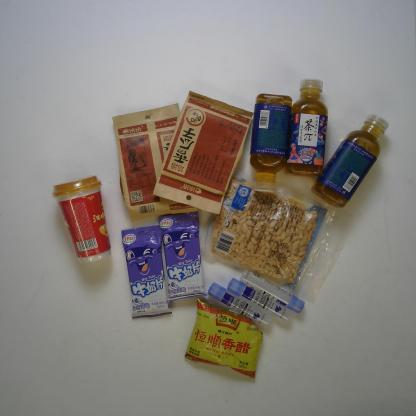Candy: (120, 224, 174, 319), (157, 210, 208, 302)
Dried Food: (153, 89, 255, 215), (110, 102, 201, 222)
Dried Fruit: (201, 171, 352, 304)
Drink: (308, 112, 392, 210), (248, 92, 294, 196), (284, 78, 328, 178)
Instant Drink: (51, 174, 113, 266)
Seasoner: (183, 296, 264, 379)
Stationery: (239, 267, 306, 320), (226, 277, 294, 322), (206, 282, 273, 327)
